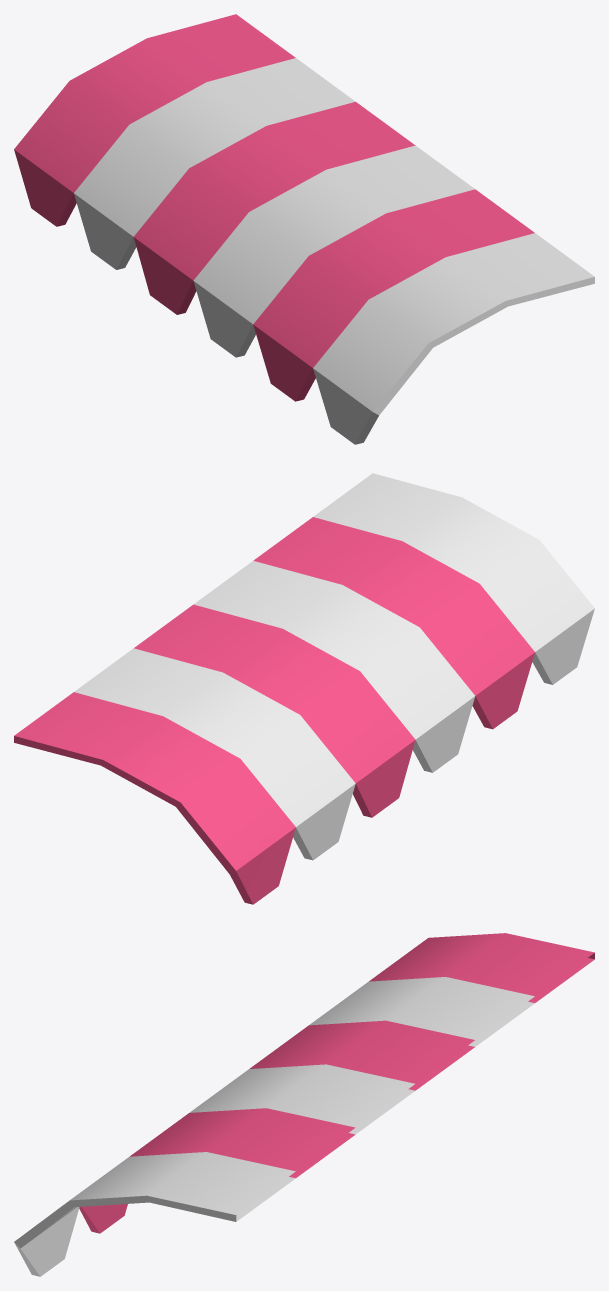
File: Awning_3_E.fbx
The picture shows the model from 3 angles, top to bottom: view 1: azimuth 30°, elevation 25°; view 2: azimuth 150°, elevation 25°; view 3: azimuth 330°, elevation 25°; orthographic projection.
Visible parts, largest first — view 1: Awning_3_E; view 2: Awning_3_E; view 3: Awning_3_E.
Part boxes in pixels (<box>): Awning_3_E: <box>14,14,594,444</box>; Awning_3_E: <box>14,473,594,904</box>; Awning_3_E: <box>14,933,594,1276</box>.
Bounding box in the file's own units: 99.94 × 54.72 × 280.
